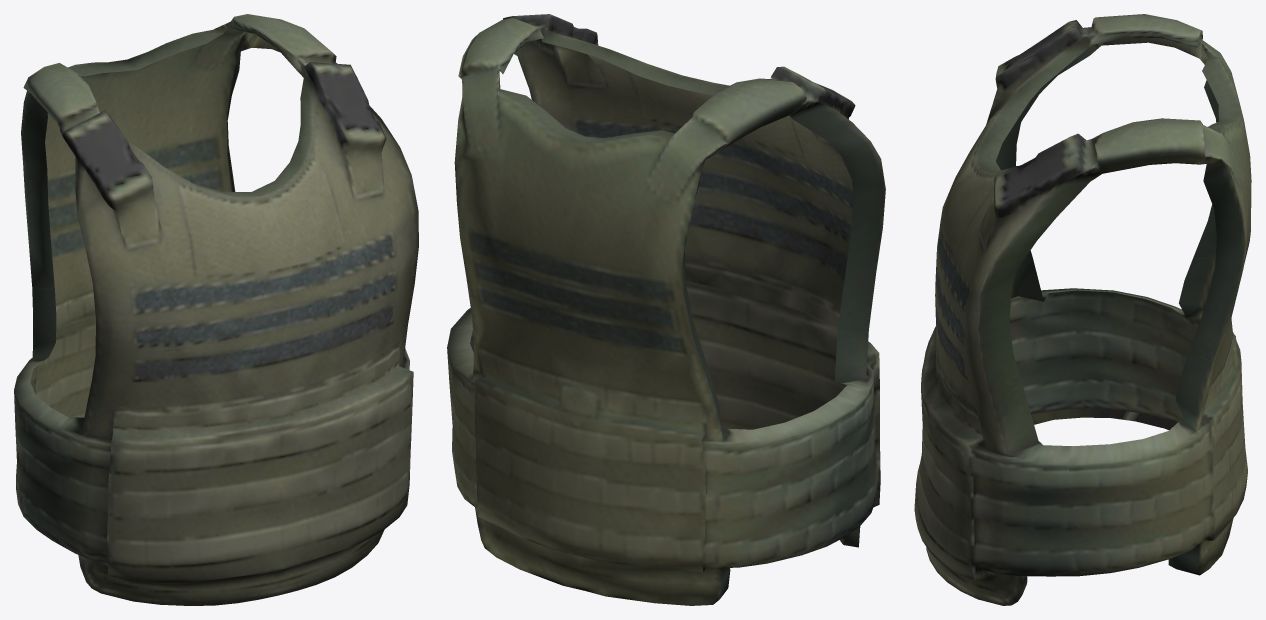
File: vest_t2.ad5670dca9.glb
3 views of the same model, side by side, from view 1: azimuth 30°, elevation 25°; view 2: azimuth 150°, elevation 25°; view 3: azimuth 270°, elevation 25° (orthographic). The views are drawn at different scales.
Parts seen in each view (by area): view 1: vest_t2; view 2: vest_t2; view 3: vest_t2.
Part boxes in pixels (x1,y1,x2,y2): vest_t2: (14, 14, 418, 605); vest_t2: (447, 14, 885, 605); vest_t2: (914, 14, 1251, 605).
Bounding box in the file's own units: 0.4482 × 0.56 × 0.3645.
1 material, 1 textured.
